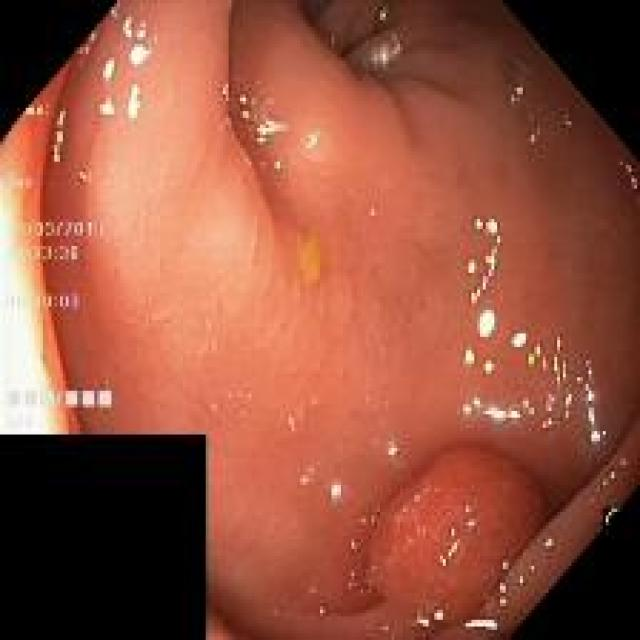Polyps: (370, 449, 546, 631)
